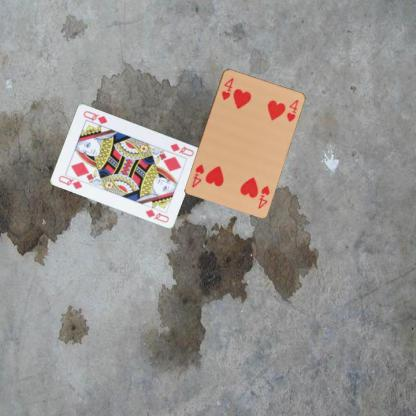4h: (219, 75, 235, 101), (255, 183, 270, 210)
Qd: (56, 172, 87, 190), (168, 140, 195, 158)
